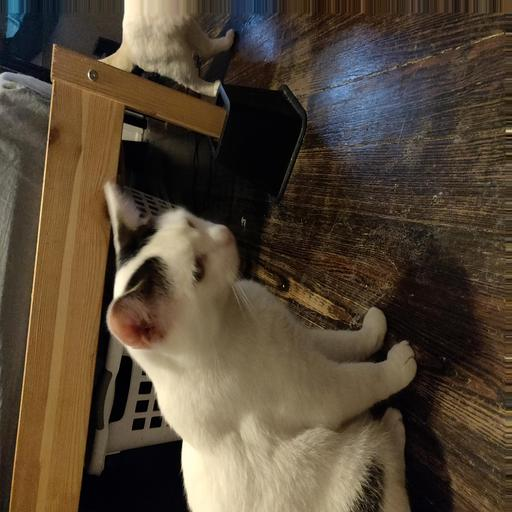cat: (101, 175, 418, 493)
